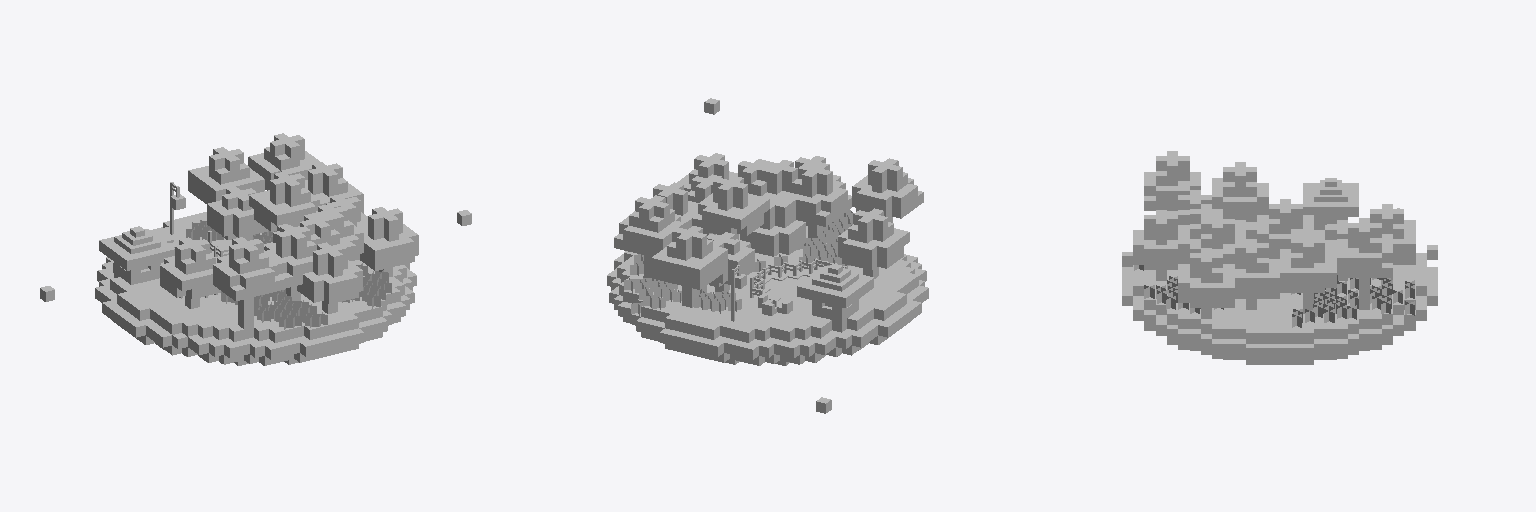
The model's file is island_small.obj.
3 views of the same model, side by side, from view 1: azimuth 30°, elevation 25°; view 2: azimuth 150°, elevation 25°; view 3: azimuth 270°, elevation 25° (orthographic).
Parts seen in each view (by area): view 1: floating-island.schematic__-42_0_-89_to_82_255_72; view 2: floating-island.schematic__-42_0_-89_to_82_255_72; view 3: floating-island.schematic__-42_0_-89_to_82_255_72.
Boxes of the visible parts, x1=… form: floating-island.schematic__-42_0_-89_to_82_255_72: x1=40, y1=133, x2=471, y2=365; floating-island.schematic__-42_0_-89_to_82_255_72: x1=607, y1=98, x2=928, y2=413; floating-island.schematic__-42_0_-89_to_82_255_72: x1=1122, y1=151, x2=1437, y2=364.
Size of the model in its own units: 2.15 by 1 by 2.15.